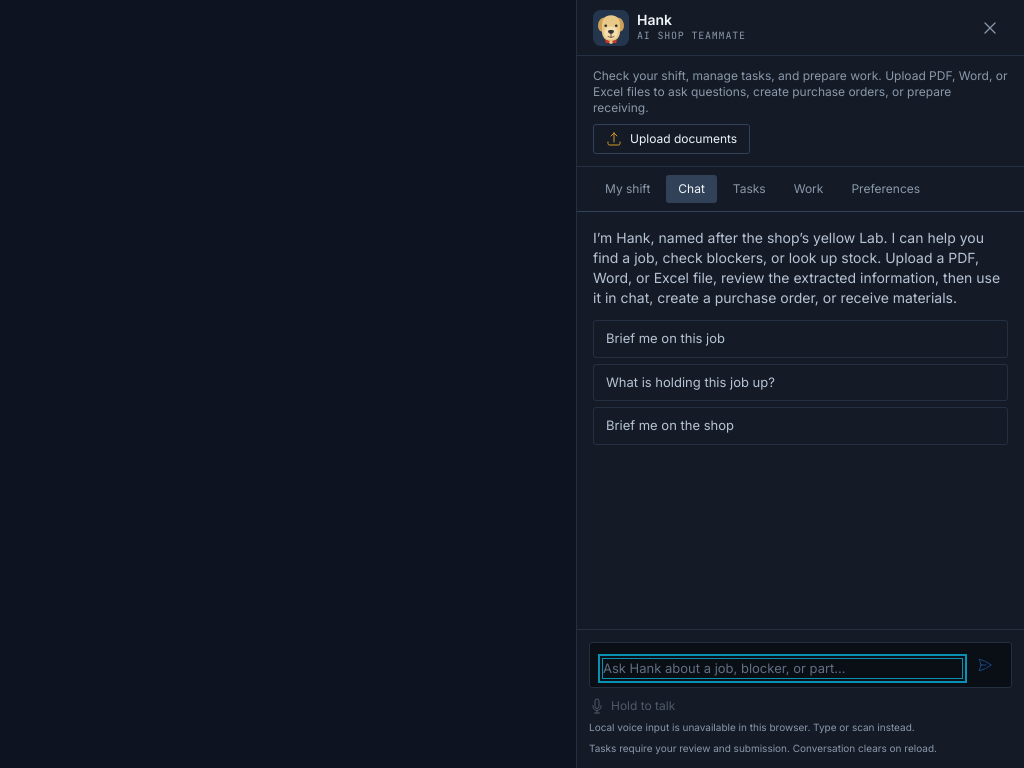
Scenario: CopilotPanel › uses the current work-order ID in its contextual briefing and request context
The width and height of the screenshot is (1024, 768).
Click the button "Brief me on this job" at (666, 338), box [593, 320, 1008, 358]
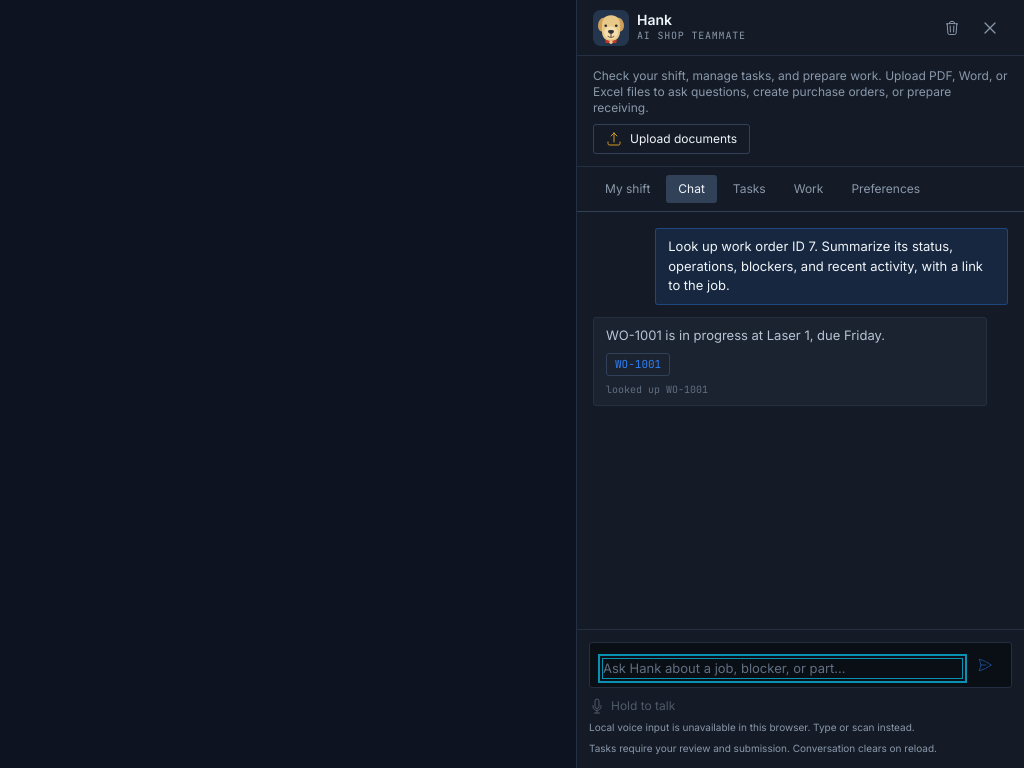
Now the text "WO-1001 is in progress at Laser 1, due Friday." is shown, box [606, 326, 885, 342]
